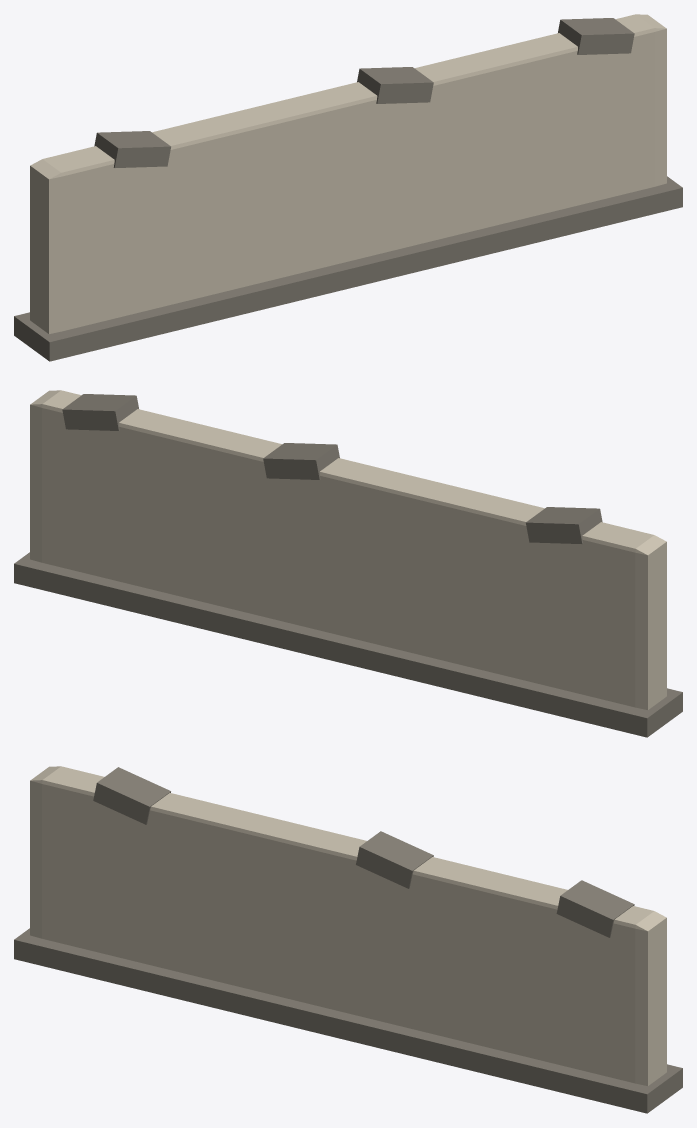
The model's file is mureta_concreto.glb.
The picture shows the model from 3 angles, top to bottom: view 1: azimuth 30°, elevation 25°; view 2: azimuth 150°, elevation 25°; view 3: azimuth 330°, elevation 25°; orthographic projection.
Visible parts, largest first — view 1: mureta_concreto; view 2: mureta_concreto; view 3: mureta_concreto.
Part boxes in pixels (x1,y1,x2,y2): mureta_concreto: (14,14,682,361); mureta_concreto: (14,390,682,737); mureta_concreto: (14,766,682,1113).
Size of the model in its own units: 4.1 by 1.17 by 0.4.
